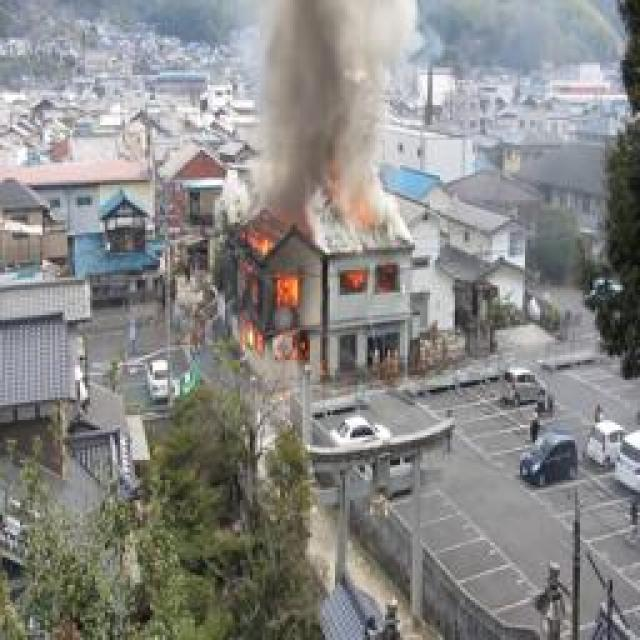Fire: (234, 239, 304, 367), (336, 272, 368, 298)
